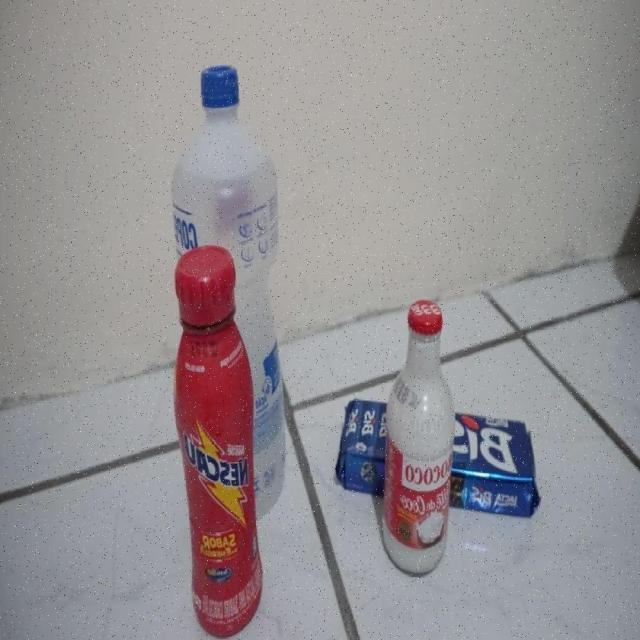AlcoholBottle: (170, 63, 286, 526)
ChocolateMilk: (172, 243, 264, 640)
CoconutMilk: (379, 298, 455, 580)
